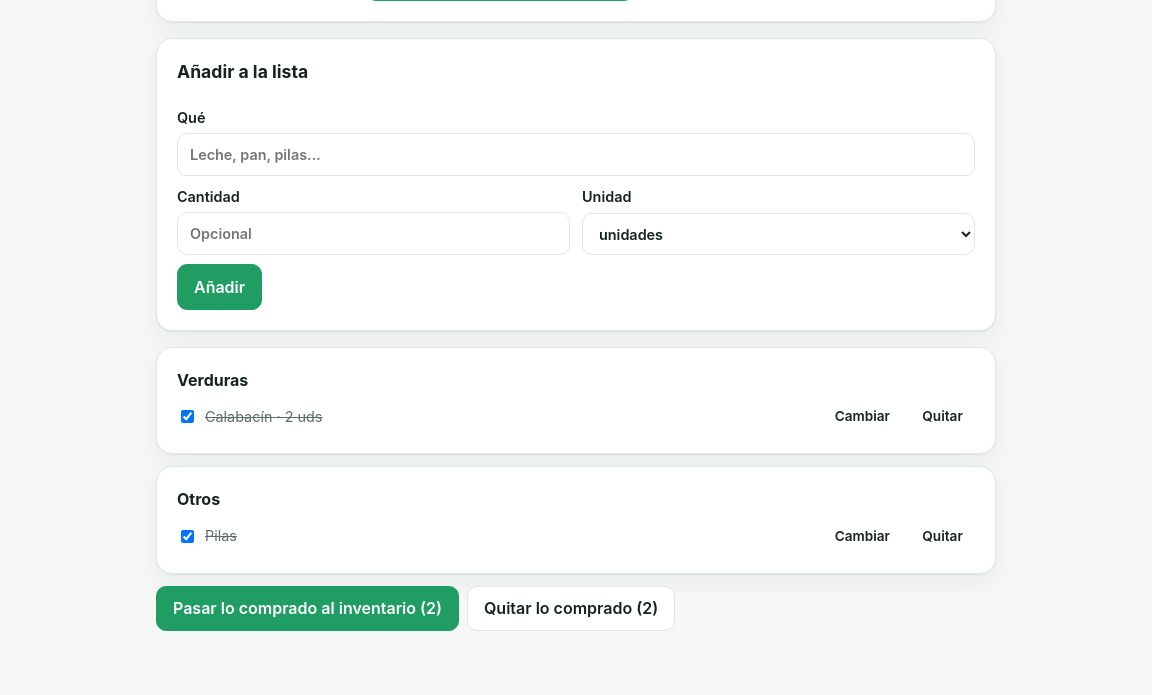
Test case: shopping list › puts what was bought in the inventory, and says what stays on the list
The image size is (1152, 695).
(page scrolled)
Click the button "Pasar lo comprado al inventario (2)": {"x": 308, "y": 608} [156,586,459,631]
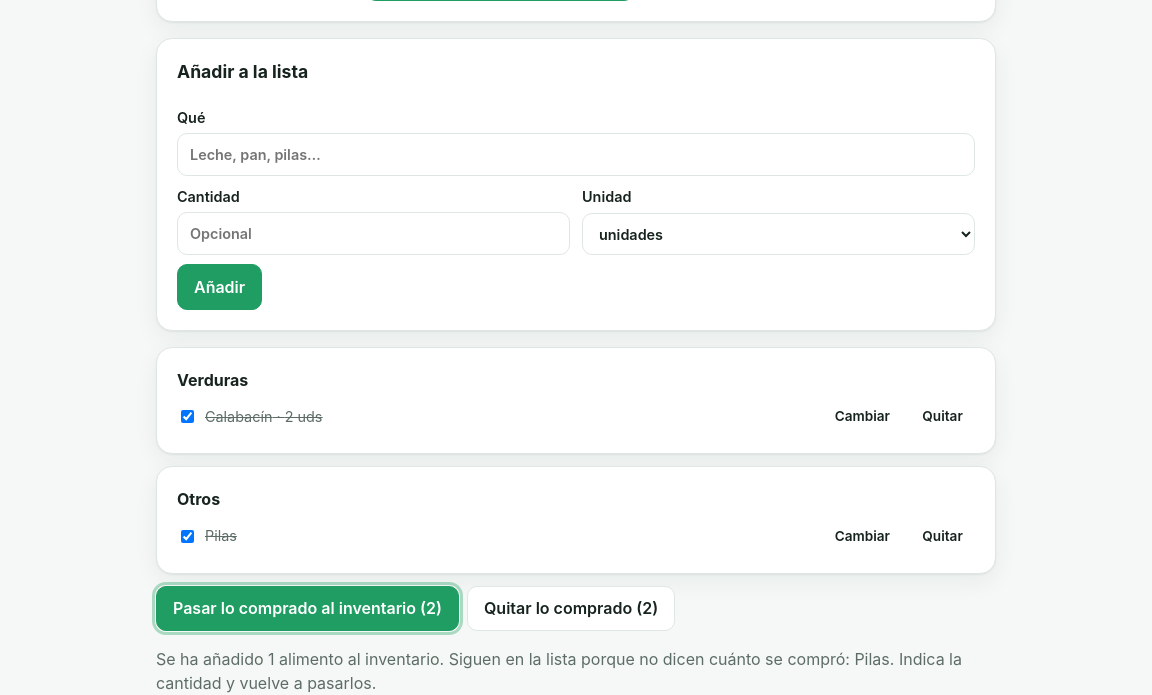
Check: the message shows "Se ha añadido 1 alimento al inventario. Siguen en la lista porque no dicen cuánto se compró: Pilas.", box [156,647,996,694]
